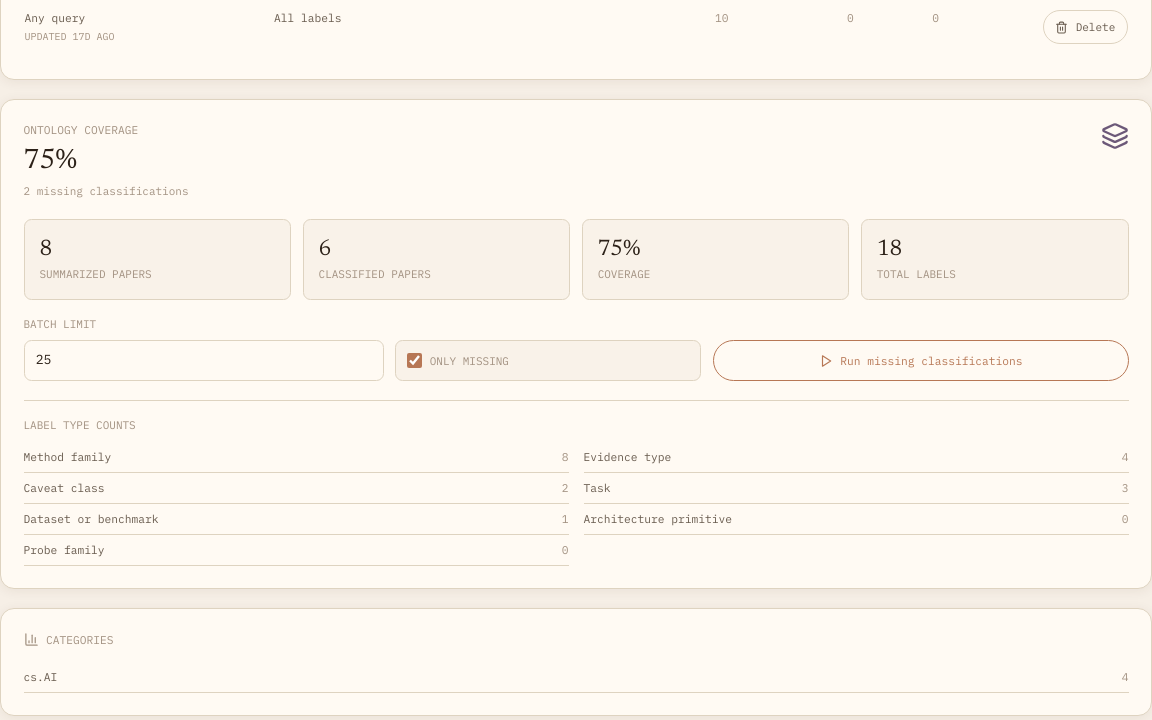
Test: StatusPage › runs a missing-classification batch and refreshes coverage
(page scrolled)
Expected: the text "2 missing classifications" is shown, [24,182,188,201]
Replace the text in the number field named "classification batch limit" with "2". click: (204, 361)
box: [24,340,384,382]
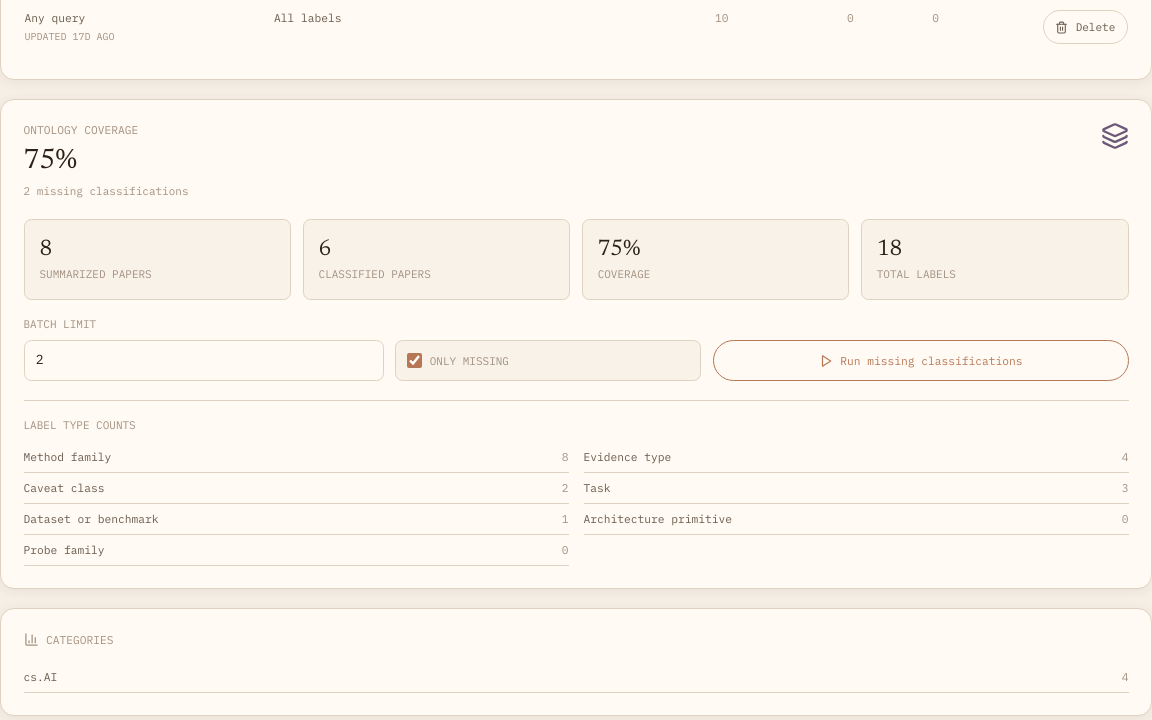
Submit the form "Batch limit Only missing Run missing classifications", box [24,314,1128,381]
(page scrolled)
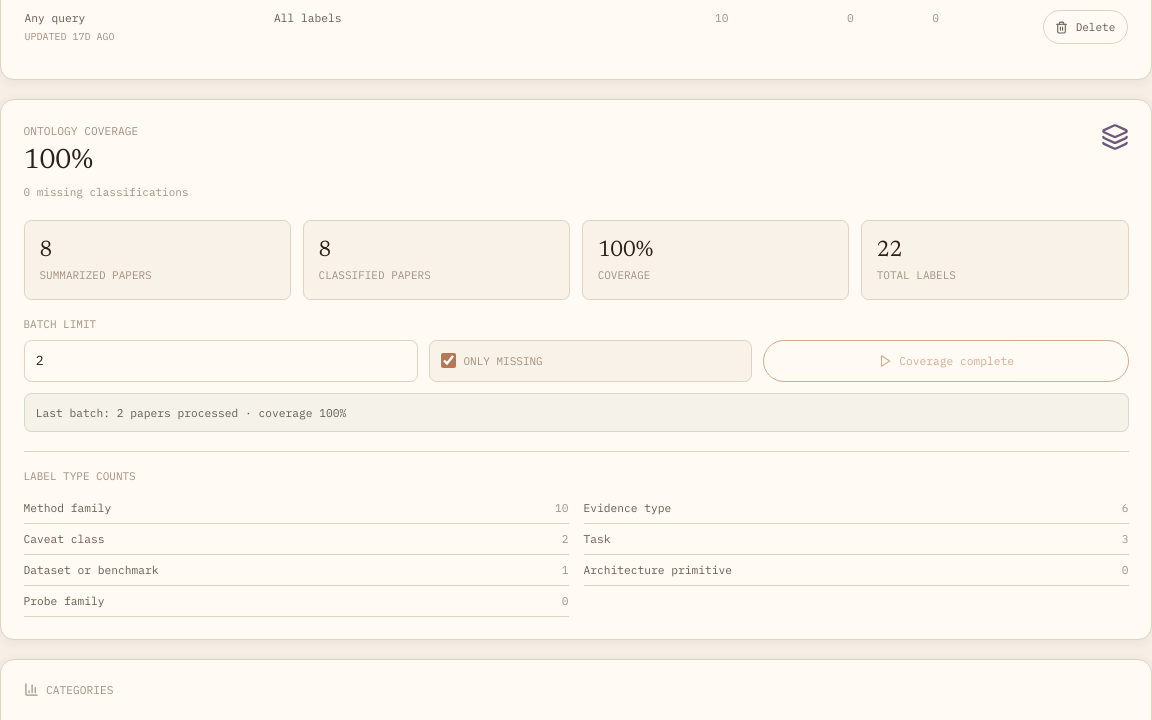
Expected: the text "Last batch: 2 papers processed · coverage 100%" is shown, [24,393,1128,432]
Expected: the heading "100%" is shown, [24,147,93,175]
